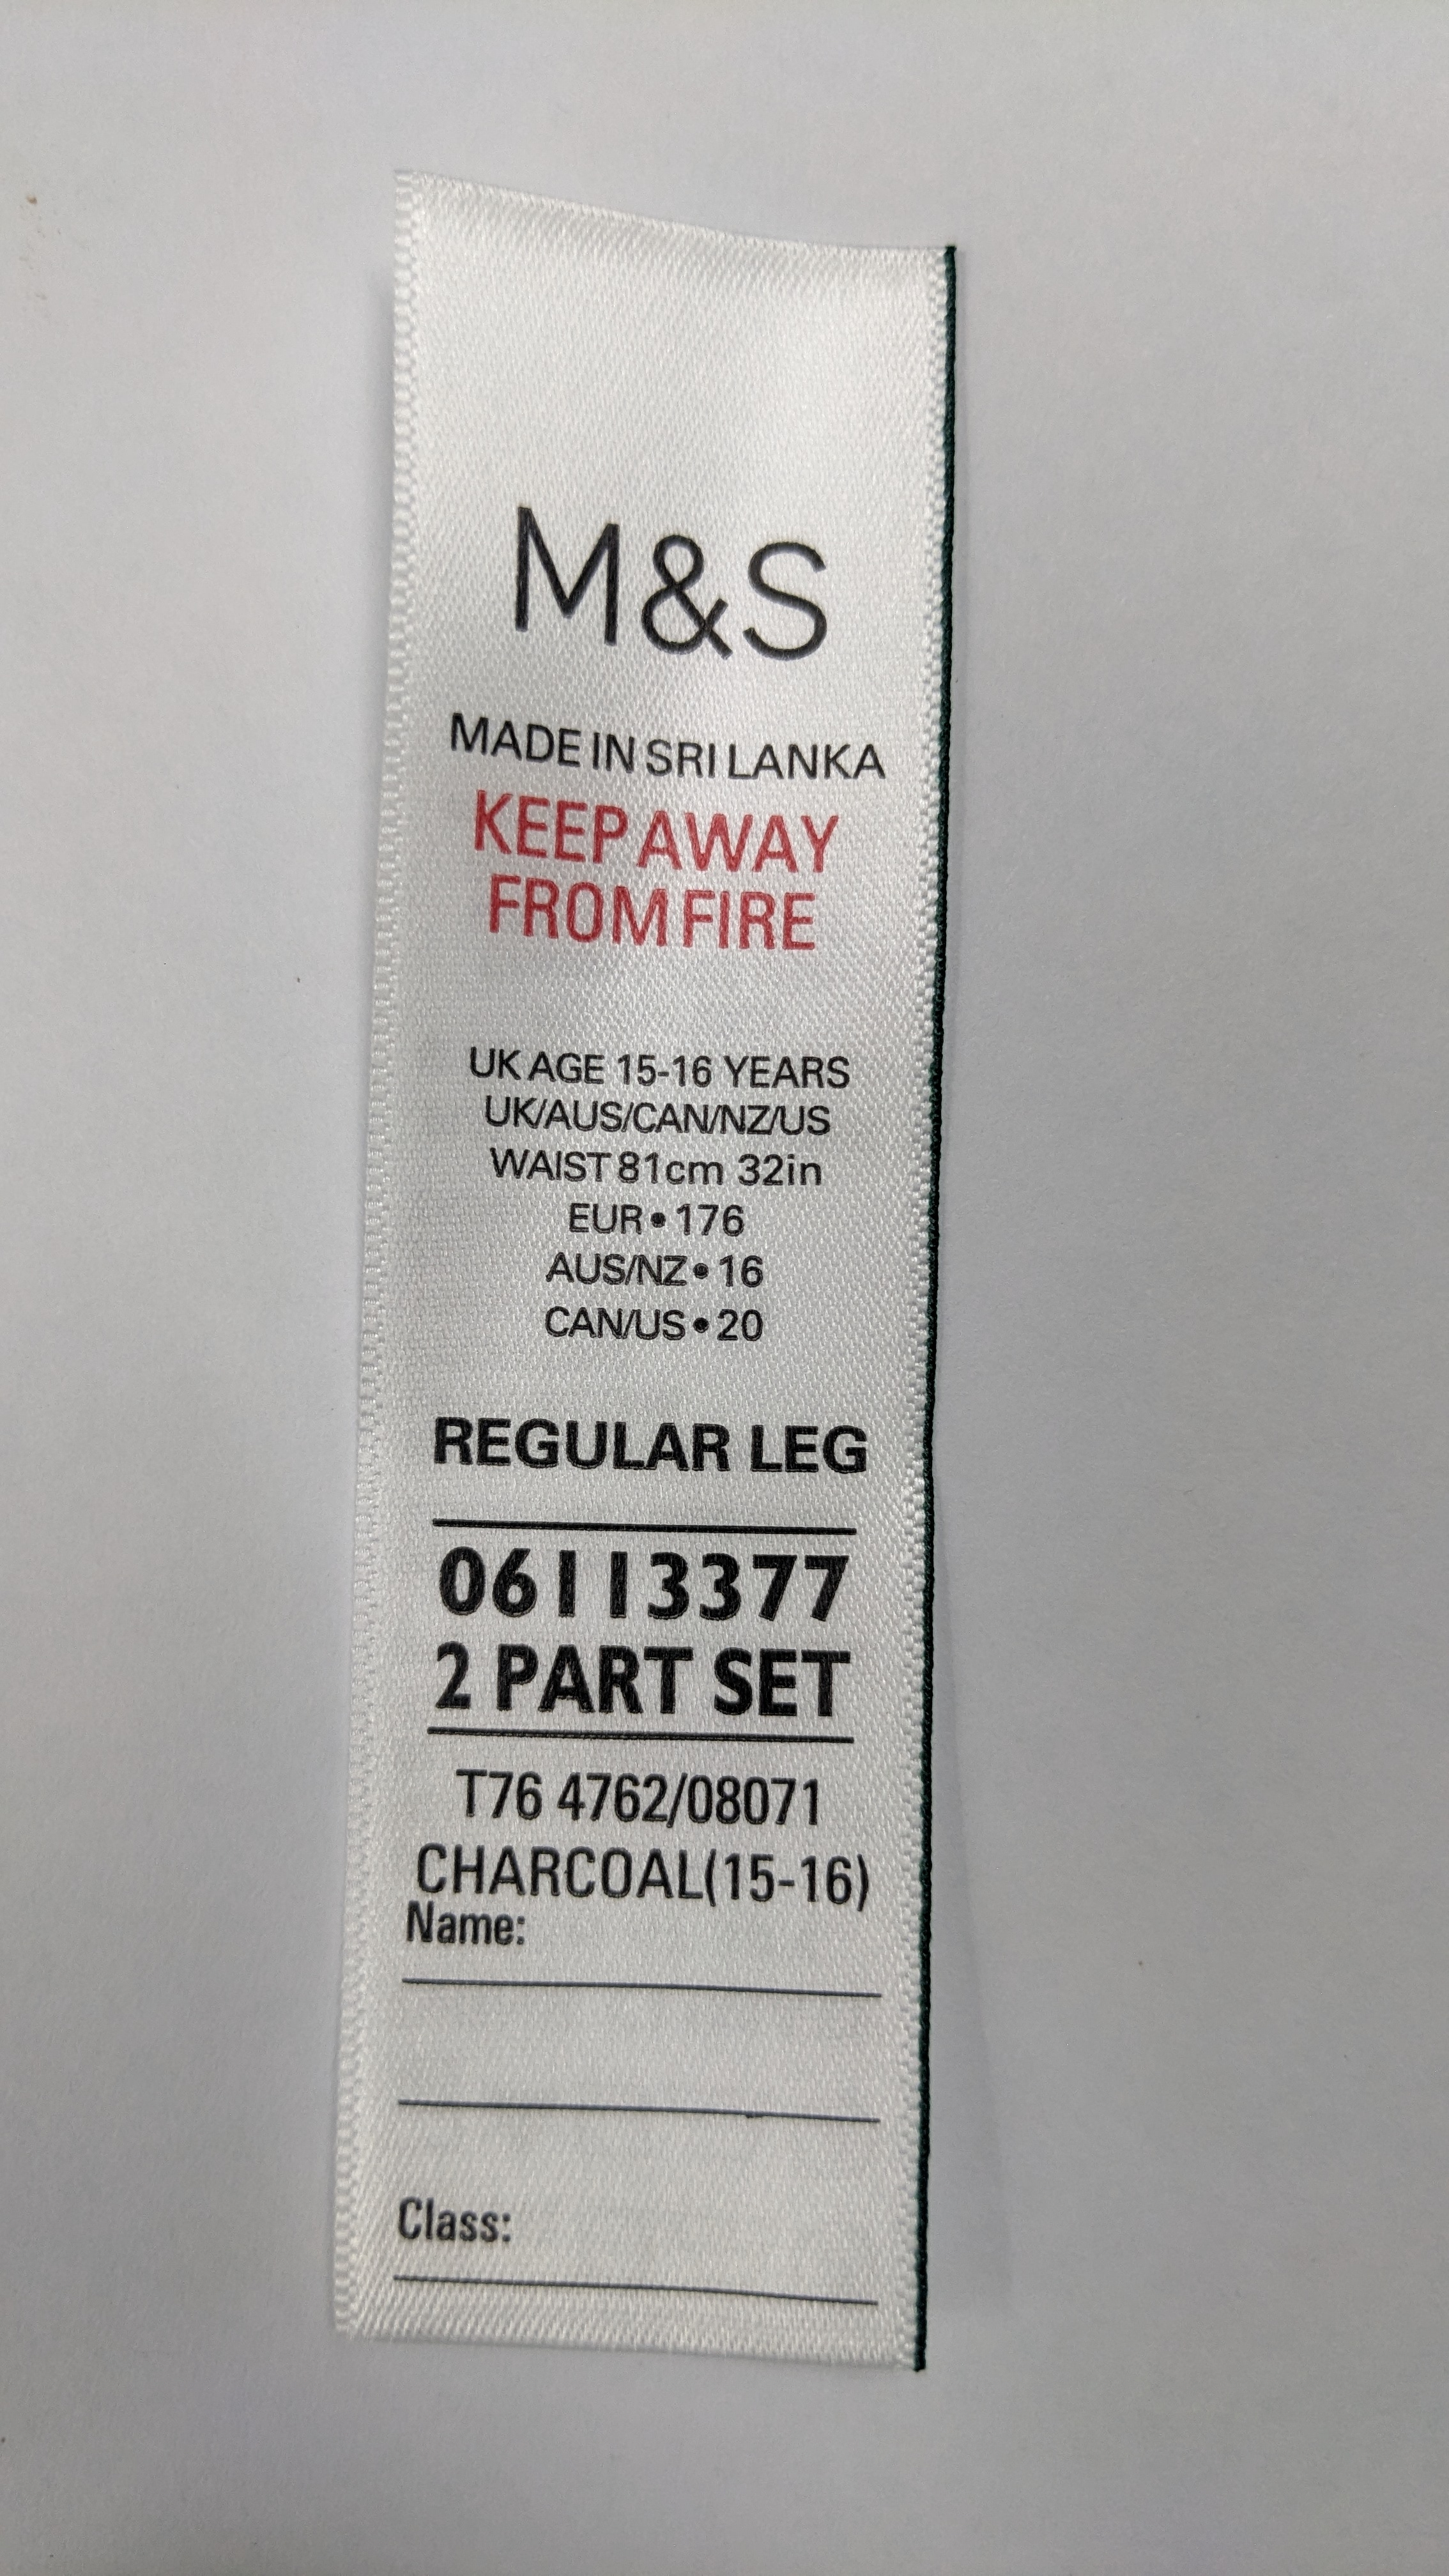Good_label: (347, 117, 968, 2360)
